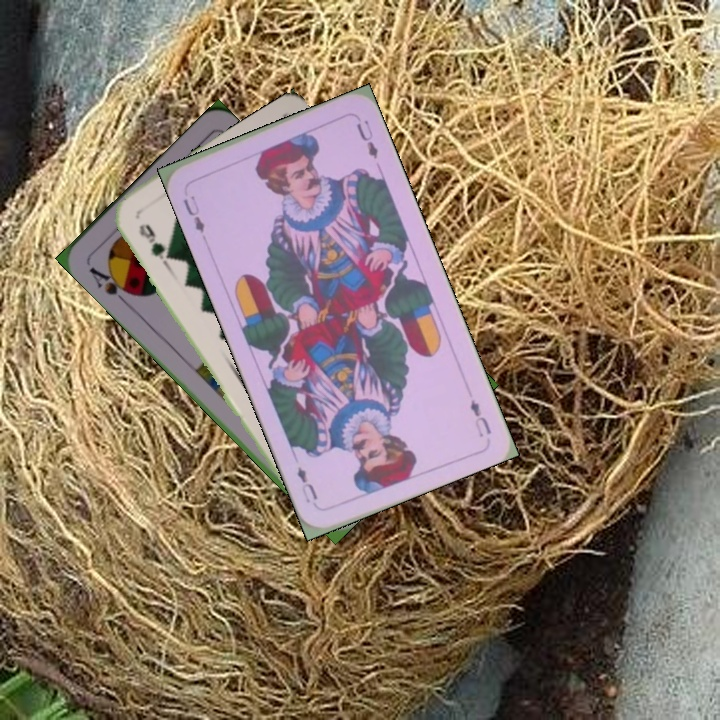EU: (178, 191, 208, 241), (466, 395, 494, 440)
G9: (134, 219, 175, 267)
SA: (85, 262, 137, 307)
